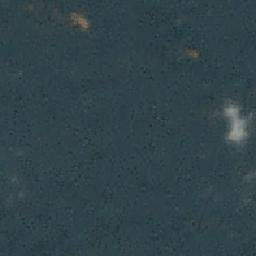debris: (223, 102, 247, 149), (65, 10, 91, 29), (183, 47, 202, 62)
